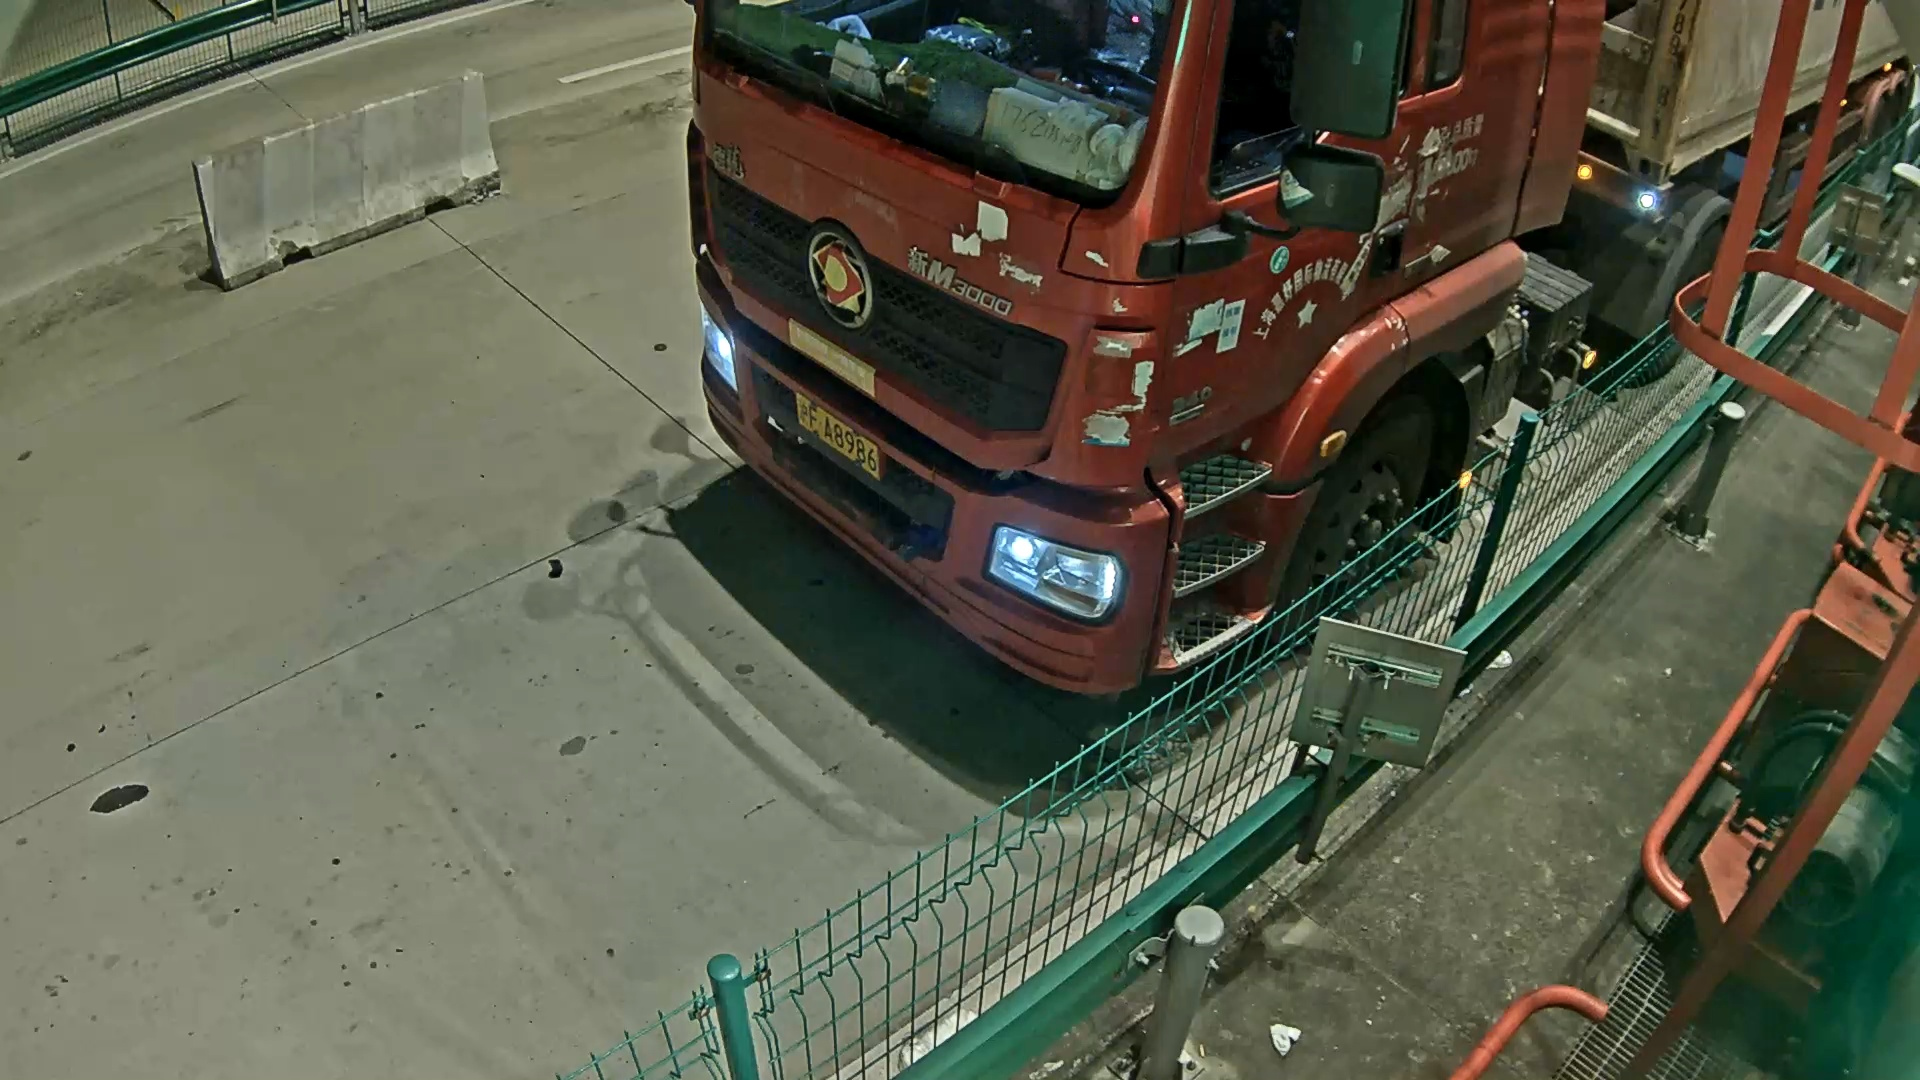head: (639, 5, 1359, 767)
plate: (791, 381, 912, 492)
